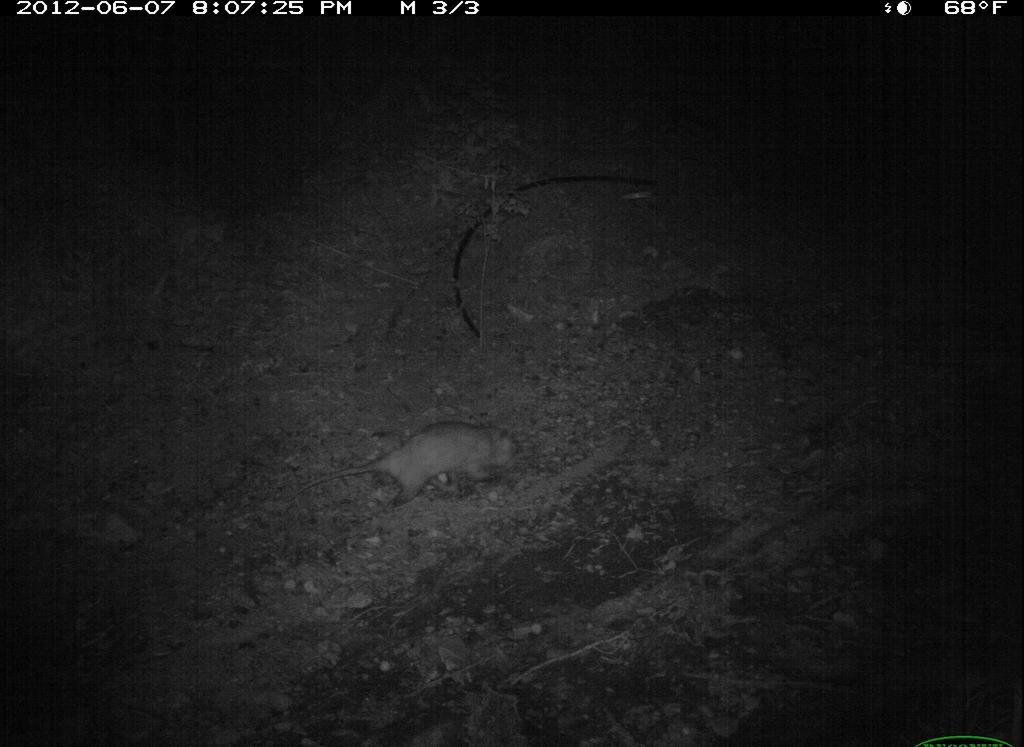opossum: (295, 413, 541, 520)
